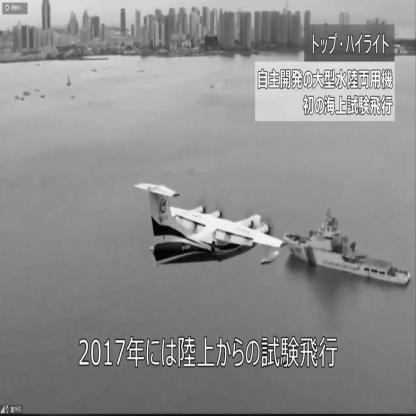AG600: (135, 183, 289, 269)
